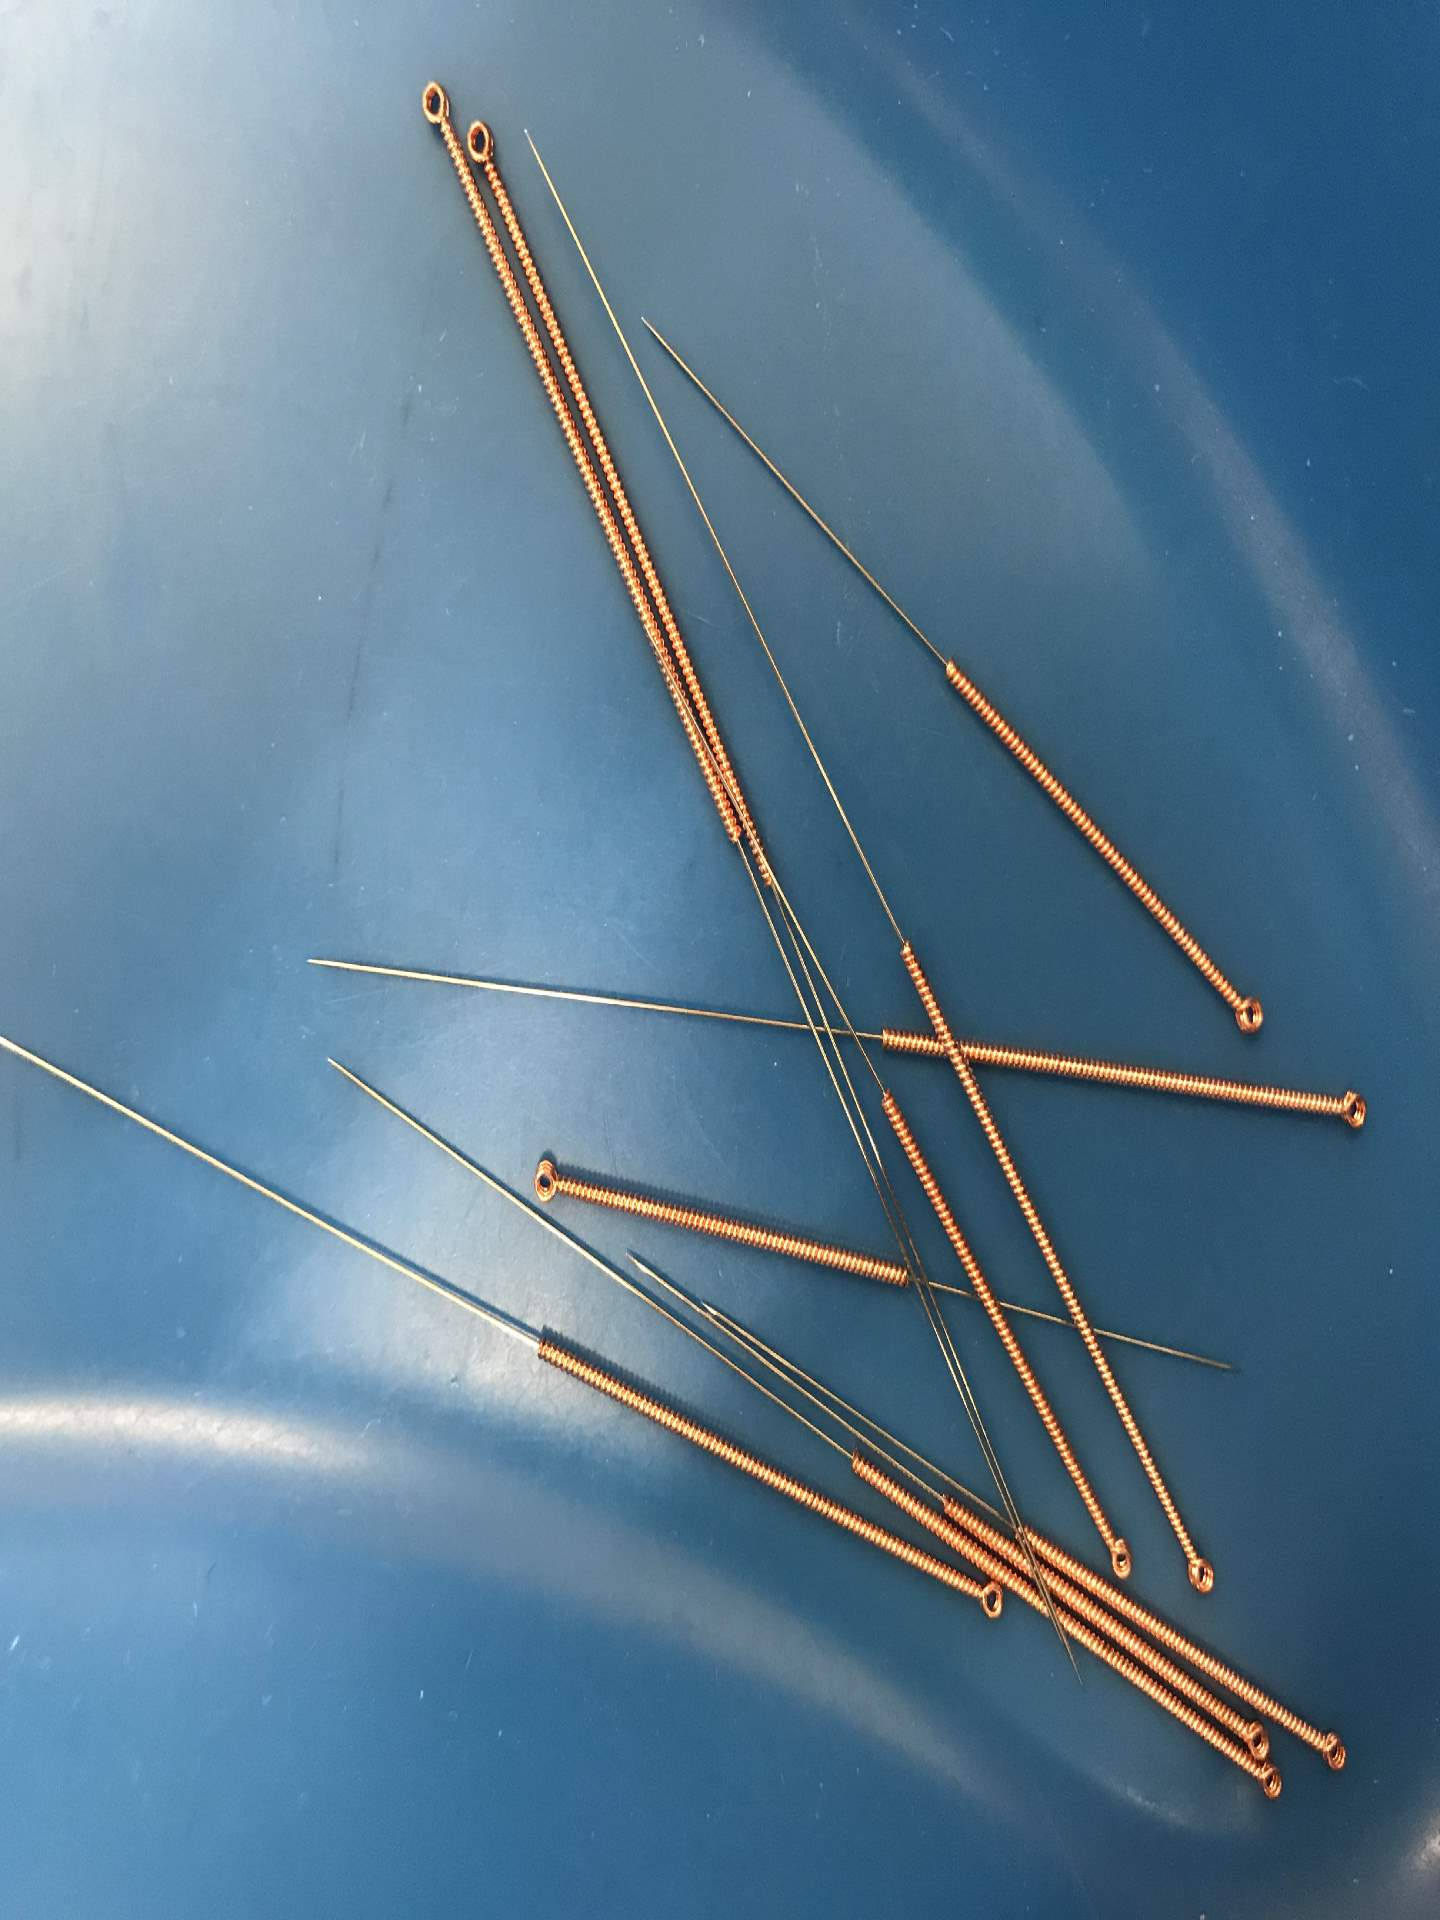needle: (399, 63, 458, 150), (1213, 971, 1274, 1051), (1299, 1708, 1357, 1787), (1316, 1073, 1379, 1144), (1169, 1531, 1228, 1606), (517, 1141, 578, 1211), (461, 106, 505, 184), (956, 1574, 1010, 1630), (1234, 1761, 1296, 1810), (1100, 1518, 1141, 1584), (1236, 1714, 1277, 1766)
